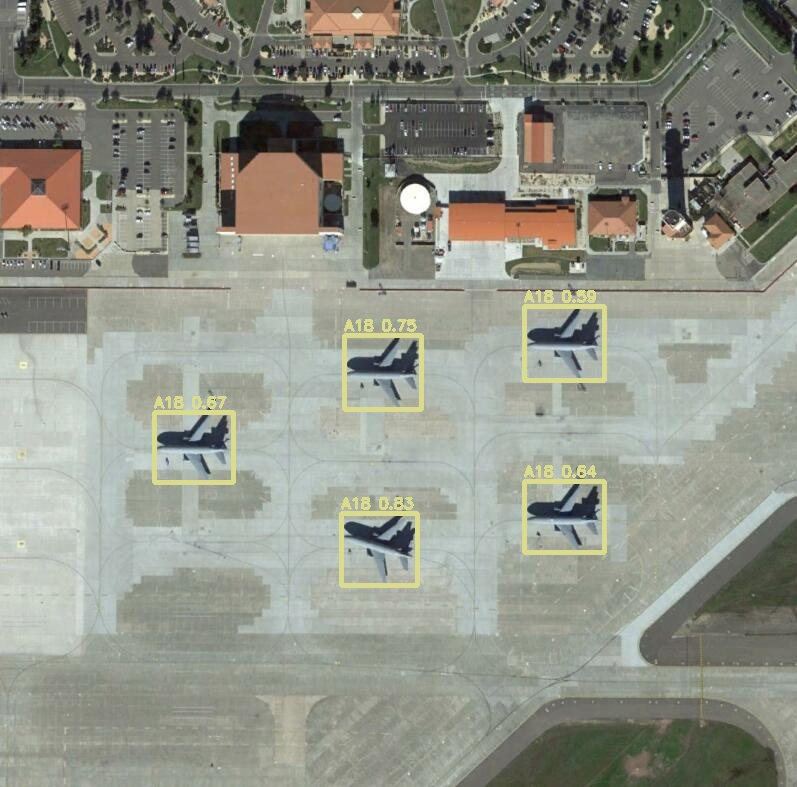A18: (524, 306, 604, 380), (344, 335, 421, 409), (524, 481, 604, 552), (154, 412, 233, 482), (341, 513, 417, 585)
